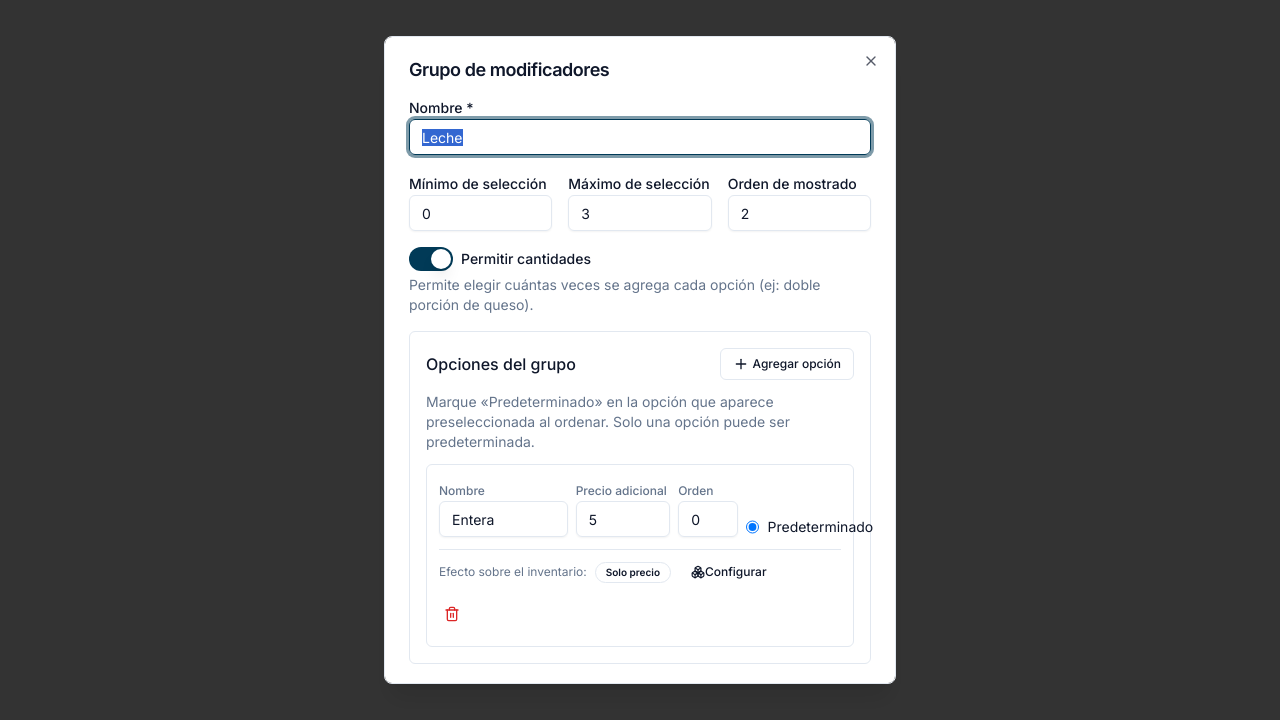
Test case: the inventory effect of a modifier option (R28) › shows the governed insumo search once the effect needs an insumo
Click the button with aria-label "efecto de inventario de la opción" at (729, 572), box [679,558,779,586]
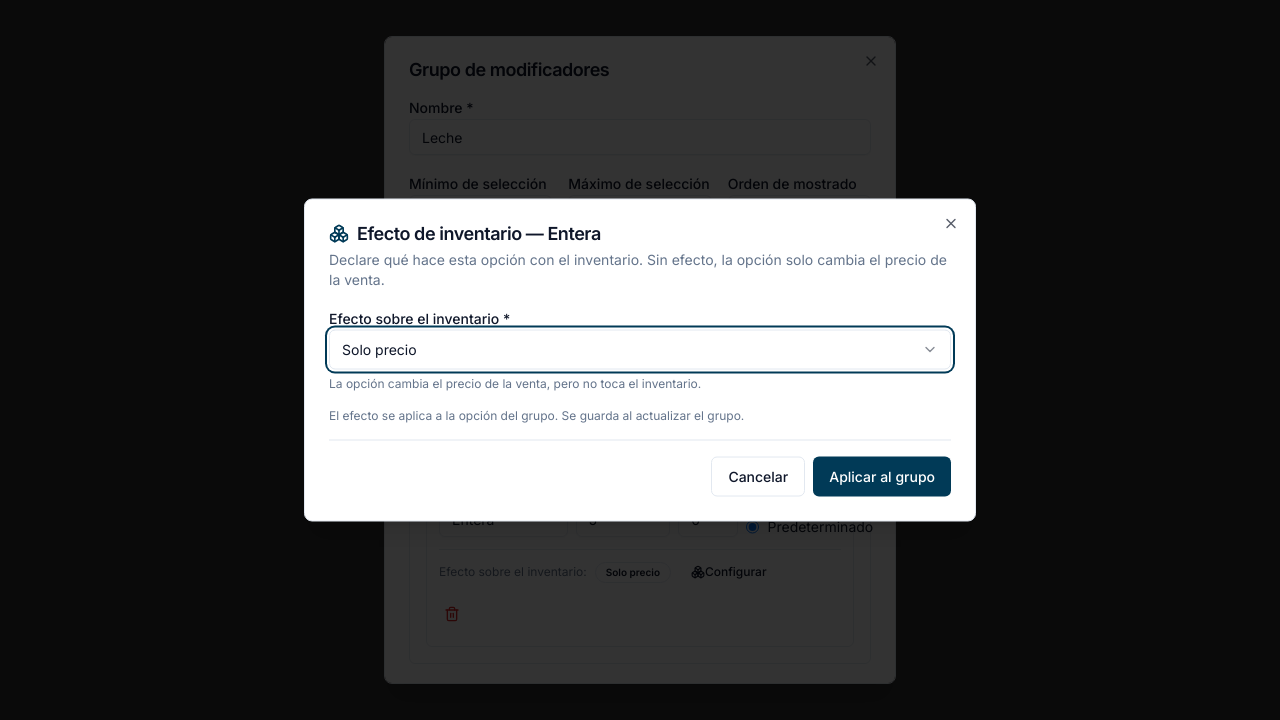
Expected: the dropdown with test id "modifier-effect-select" is shown
Click the dropdown with test id "modifier-effect-select" at (379, 349), box [329,330,951,370]
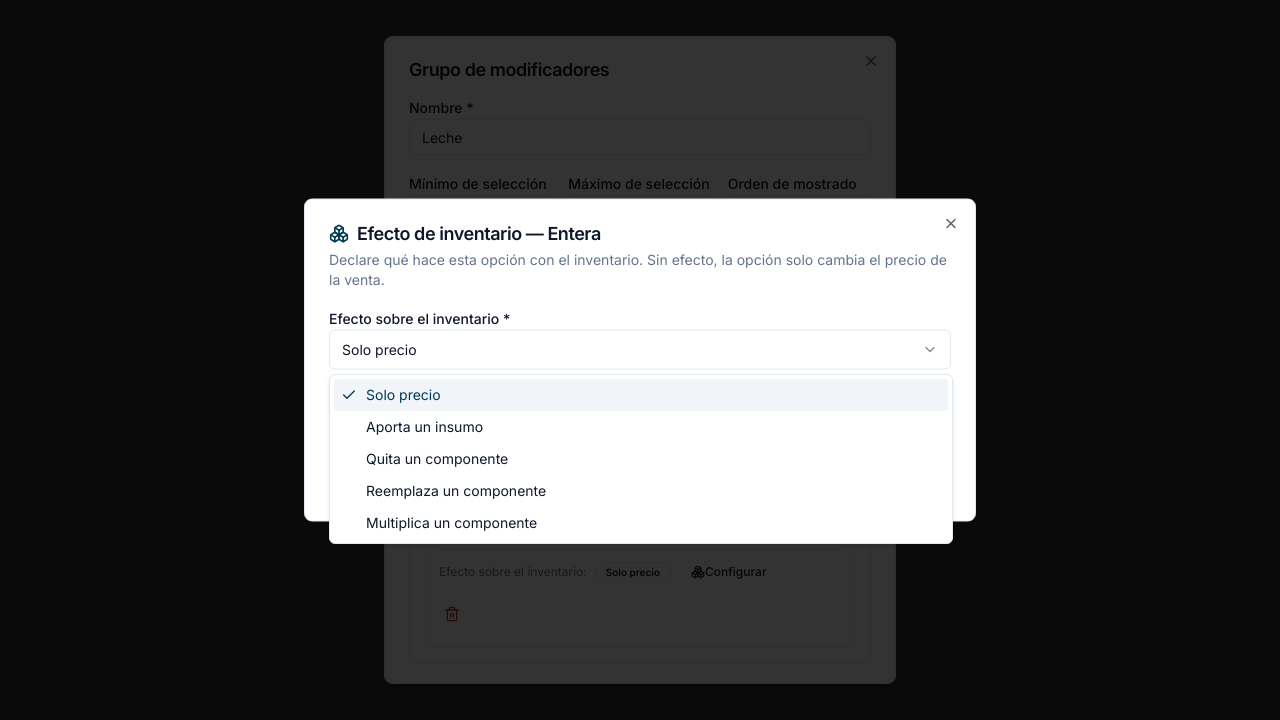
Click the option "Aporta un insumo" at (424, 426), box [366,418,483,435]
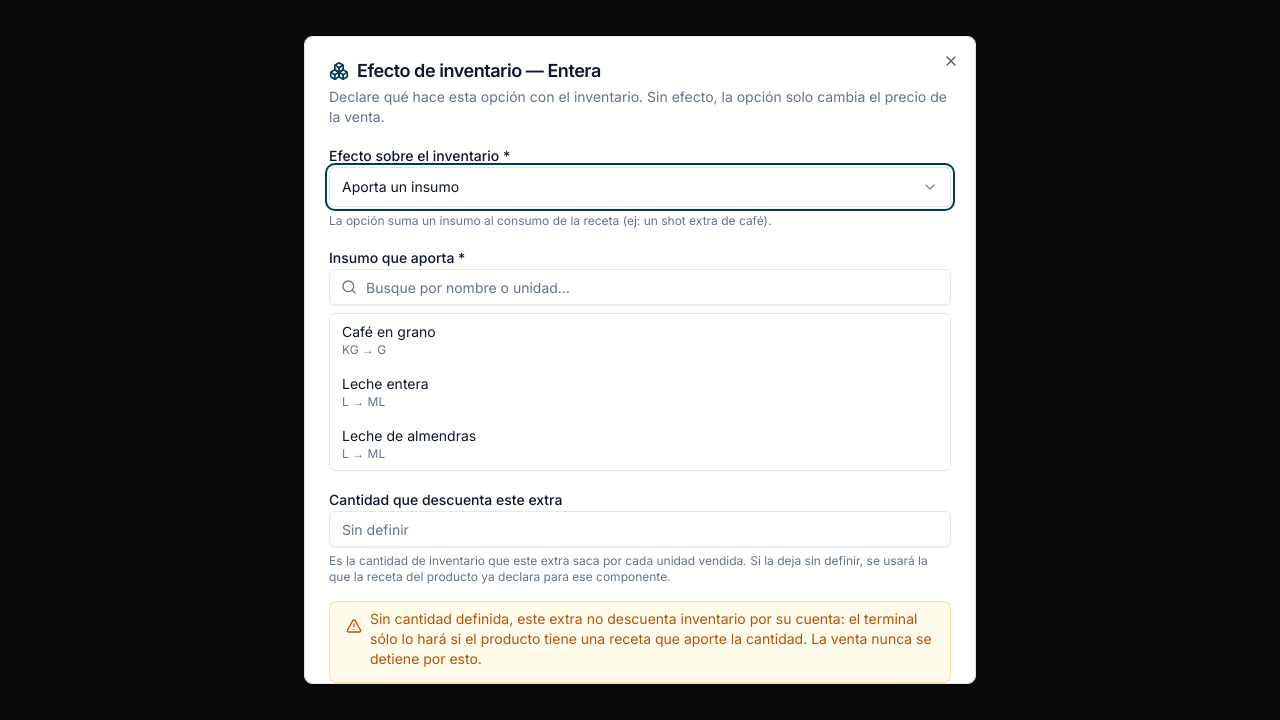
Expected: the dropdown with id "modifier-effect-insumo" is shown, [329,269,951,305]
